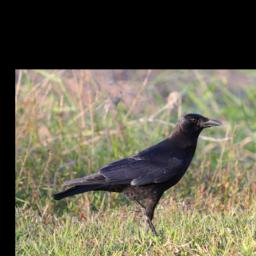Crow: (50, 112, 224, 241)
